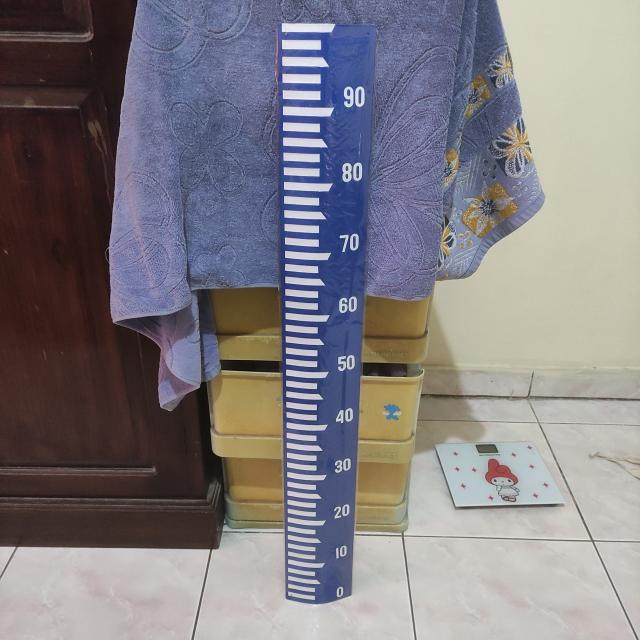ruler: (270, 15, 377, 609)
value: (337, 77, 373, 114), (330, 227, 366, 257), (335, 158, 368, 188), (329, 349, 361, 378), (333, 290, 362, 318), (328, 450, 356, 479), (329, 403, 359, 430), (326, 498, 355, 524), (327, 540, 352, 563), (330, 577, 350, 602)
